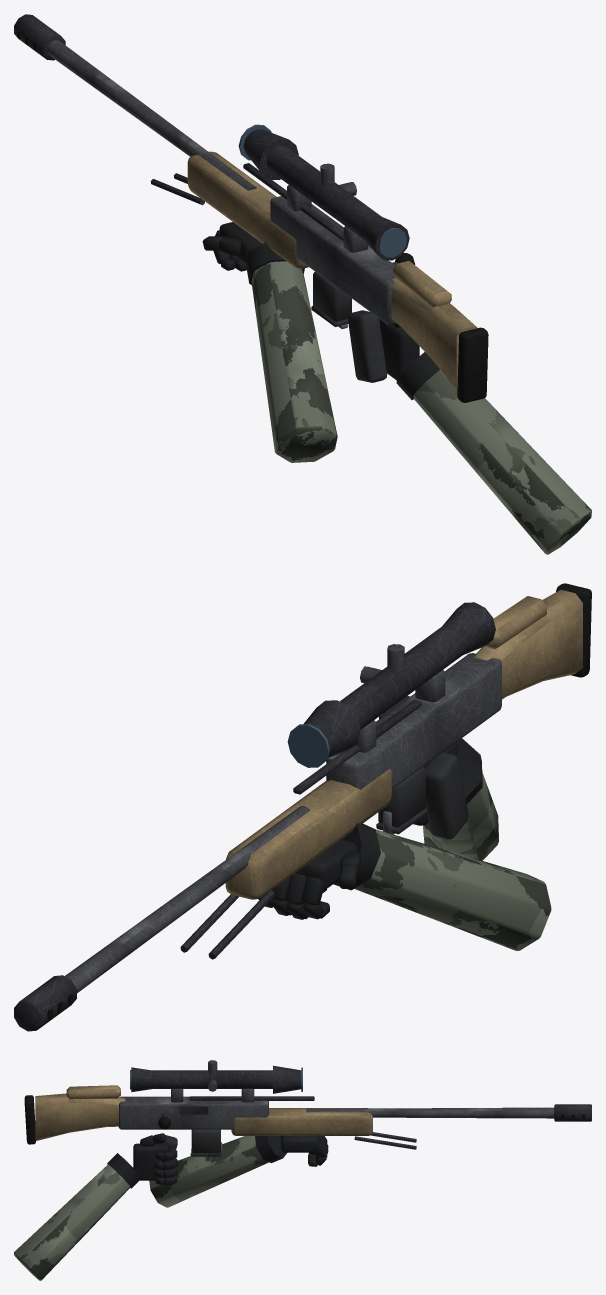
Rendered from sniper_fp.glb.
3 renders of one model, top to bottom at view 1: azimuth 30°, elevation 25°; view 2: azimuth 150°, elevation 25°; view 3: azimuth 270°, elevation 25°, orthographic. The views are drawn at different scales.
Parts seen in each view (by area): view 1: body, arms, mag; view 2: body, arms, mag; view 3: body, arms, mag.
Part boxes in pixels (x1,y1,x2,y2): body: (14, 14, 488, 402); arms: (202, 222, 591, 554); mag: (311, 271, 351, 326); body: (14, 583, 591, 1031); arms: (258, 738, 551, 950); mag: (376, 766, 427, 834); body: (24, 1060, 591, 1156); arms: (14, 1133, 328, 1280); mag: (191, 1129, 221, 1156).
Bounding box in the file's own units: 0.3623 × 0.5026 × 1.39.
Materials: 9 (8 with a texture image).
